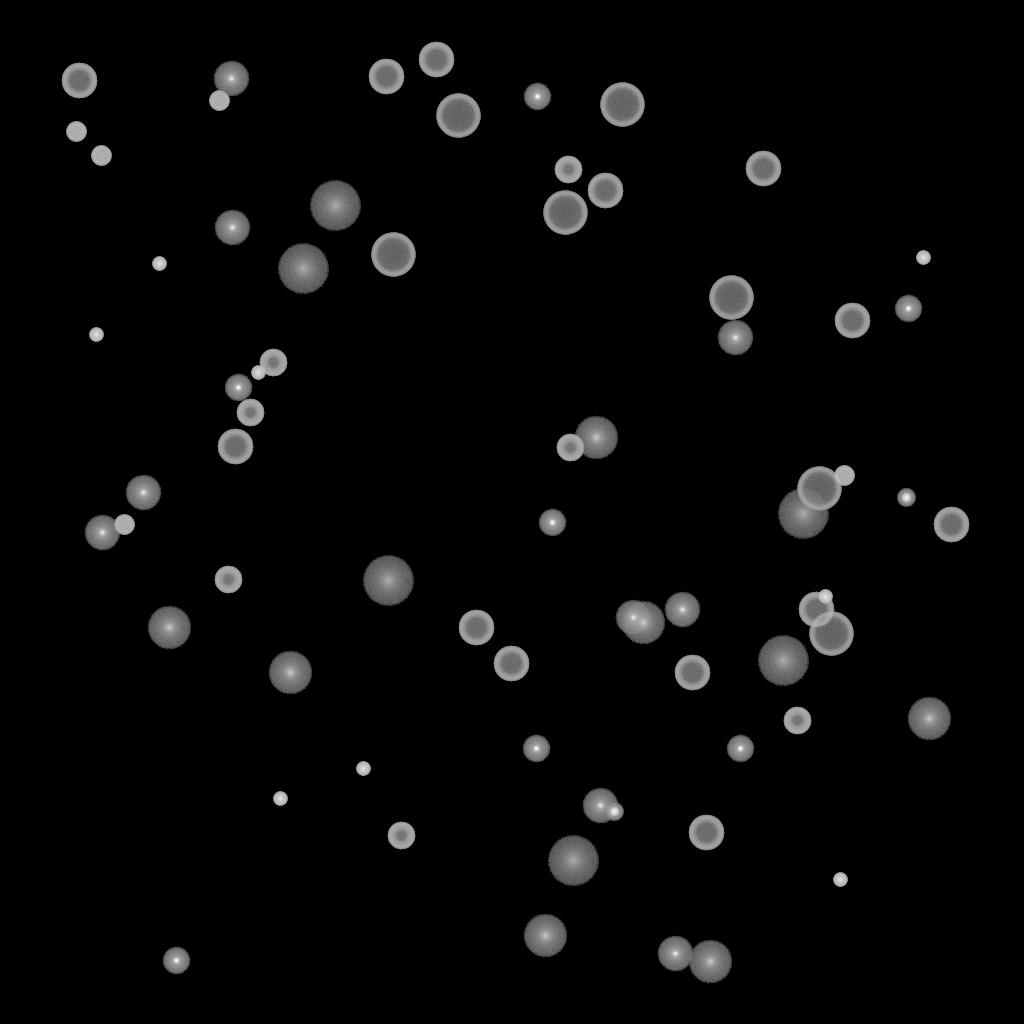depth:-10: (726, 735, 754, 763), (162, 947, 190, 975), (523, 83, 551, 111), (224, 374, 252, 402), (538, 509, 566, 537), (522, 735, 550, 763), (894, 295, 922, 323)
depth:-20: (605, 803, 623, 821), (897, 489, 915, 507)
depth:-30: (833, 873, 847, 887), (273, 792, 287, 806), (152, 257, 166, 271), (916, 251, 930, 265), (356, 762, 370, 776), (818, 590, 832, 604), (251, 366, 265, 380), (89, 328, 103, 342)
depth:-40: (66, 122, 86, 142), (834, 466, 854, 486), (209, 91, 229, 111), (114, 515, 134, 535), (91, 146, 111, 166)
depth:-50: (214, 566, 242, 594), (236, 399, 264, 427), (259, 349, 287, 377), (556, 434, 584, 462), (554, 156, 582, 184), (387, 822, 415, 850), (783, 707, 811, 735)
depth:-60: (798, 592, 834, 628), (61, 63, 97, 99), (458, 610, 494, 646), (688, 815, 724, 851), (587, 173, 623, 209), (493, 646, 529, 682), (745, 151, 781, 187), (933, 507, 969, 543), (834, 303, 870, 339), (418, 42, 454, 78), (674, 655, 710, 691), (217, 429, 253, 465), (368, 59, 404, 95)
depth:-70: (797, 467, 841, 511), (436, 94, 480, 138), (543, 191, 587, 235), (371, 233, 415, 277), (600, 83, 644, 127), (809, 612, 853, 656), (709, 276, 753, 320)
depth:0: (214, 210, 250, 246), (664, 592, 700, 628), (657, 936, 693, 972), (717, 320, 753, 356), (582, 788, 618, 824), (84, 515, 120, 551), (213, 61, 249, 97), (125, 475, 161, 511), (615, 600, 651, 636)
depth:10: (621, 601, 665, 645), (523, 914, 567, 958), (688, 940, 732, 984), (574, 416, 618, 460), (907, 697, 951, 741), (147, 606, 191, 650), (268, 651, 312, 695)
depth:20: (277, 244, 329, 294), (757, 636, 809, 686), (309, 181, 361, 231), (362, 556, 414, 606), (777, 489, 829, 539), (547, 836, 599, 886)
